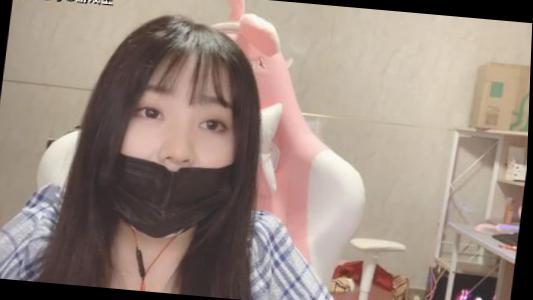WRONG: (106, 68, 245, 243)
